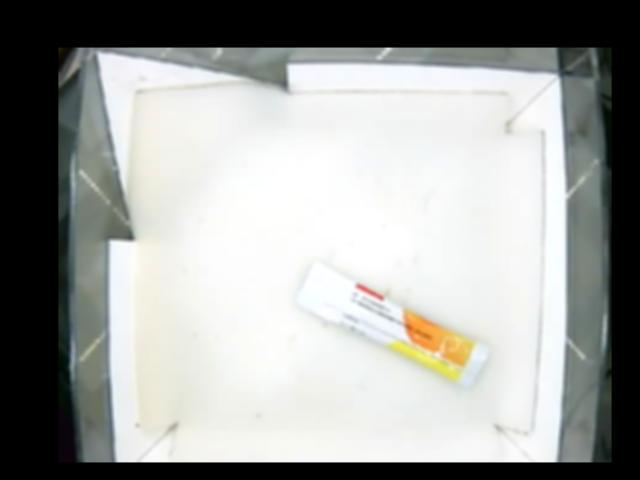Medicine: (294, 261, 491, 387)
